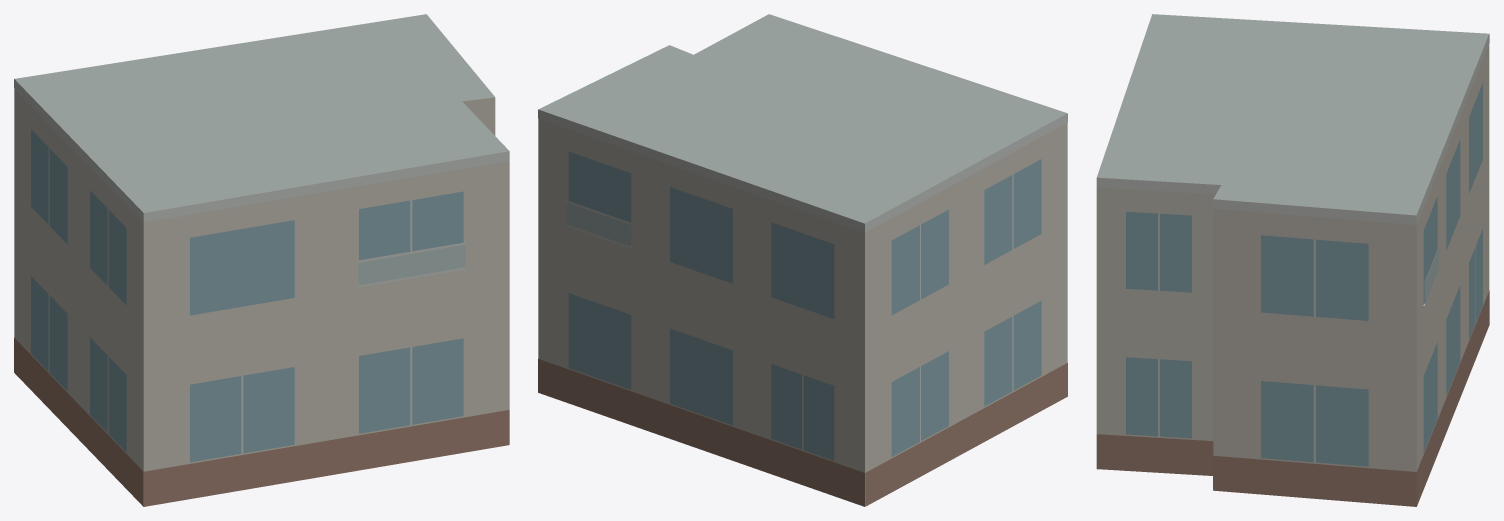
Rendered from survey-upis-32935898.glb.
The picture shows the model from 3 angles, left to right: view 1: azimuth 30°, elevation 25°; view 2: azimuth 150°, elevation 25°; view 3: azimuth 270°, elevation 25°; orthographic projection. The views are drawn at different scales.
Parts seen in each view (by area): view 1: survey-upis-32935898.tmp; view 2: survey-upis-32935898.tmp; view 3: survey-upis-32935898.tmp.
Boxes of the visible parts, bbox=[...] form: survey-upis-32935898.tmp: bbox=[14, 14, 509, 506]; survey-upis-32935898.tmp: bbox=[538, 14, 1067, 506]; survey-upis-32935898.tmp: bbox=[1096, 14, 1489, 506].
Size of the model in its own units: 11.13 by 7.5 by 9.17.
